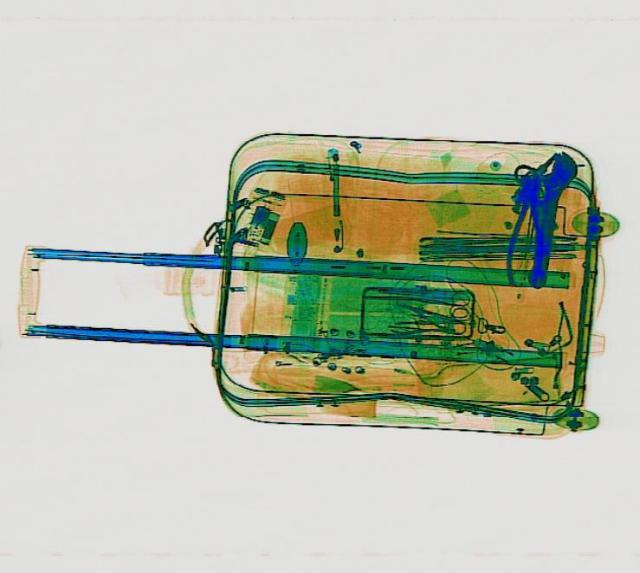Pliers: (502, 178, 548, 283)
Scissors: (405, 285, 471, 316)
Wrench: (522, 147, 578, 288)
